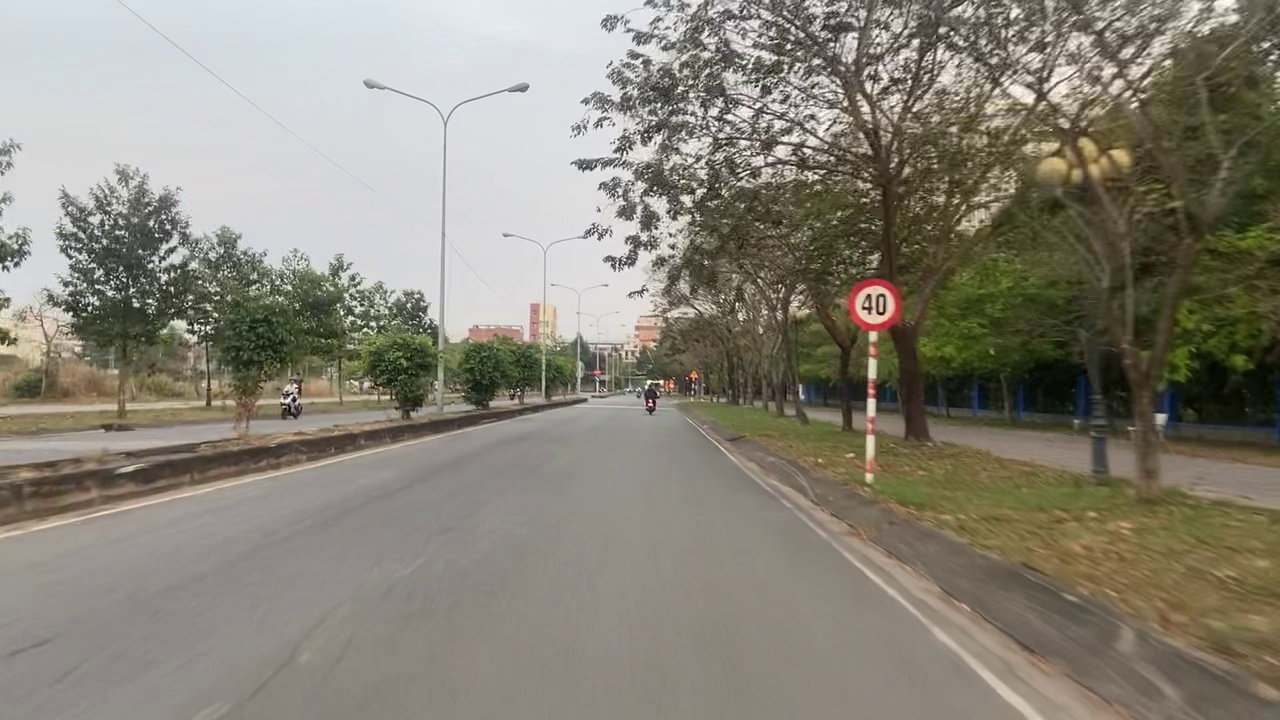gioi_han_40km: (848, 278, 902, 333)
